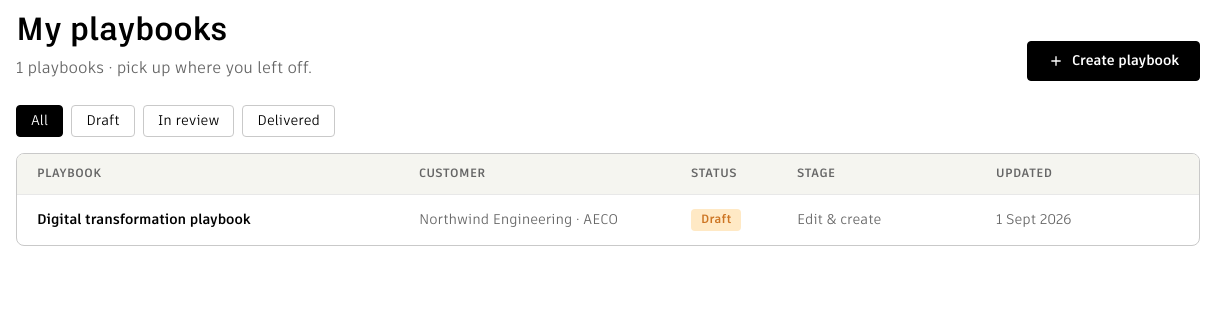
Scenario: MyPlaybooks › filters by status and shows a filter-specific empty message
The width and height of the screenshot is (1217, 312).
Click the button "Delivered": (289, 121) [242, 105, 335, 137]
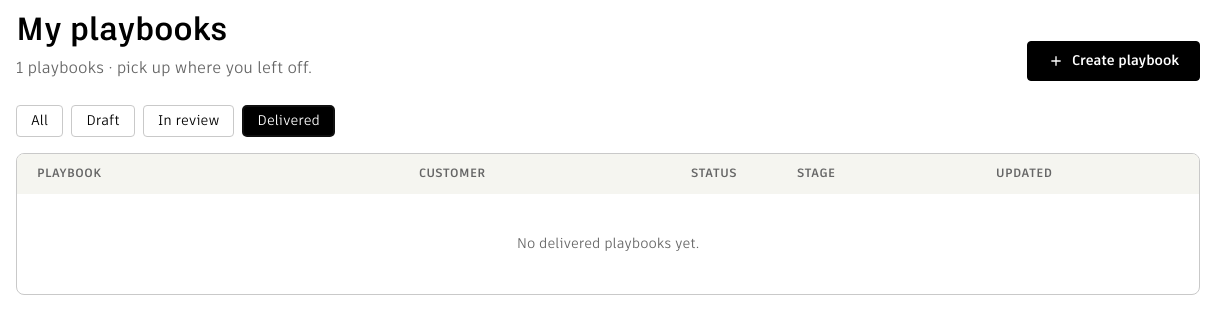
Expected: the link "Digital transformation playbook" is gone
Expected: the text "No delivered playbooks yet." is shown, [517, 237, 699, 251]
